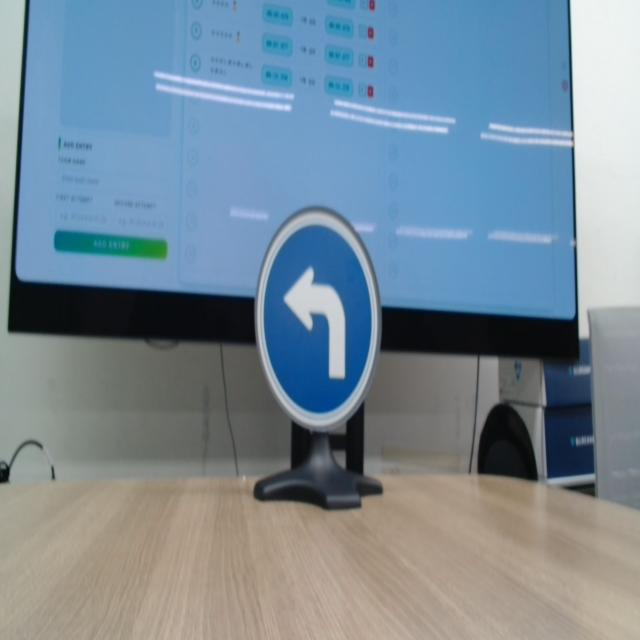left_direction: (237, 148, 408, 444)
